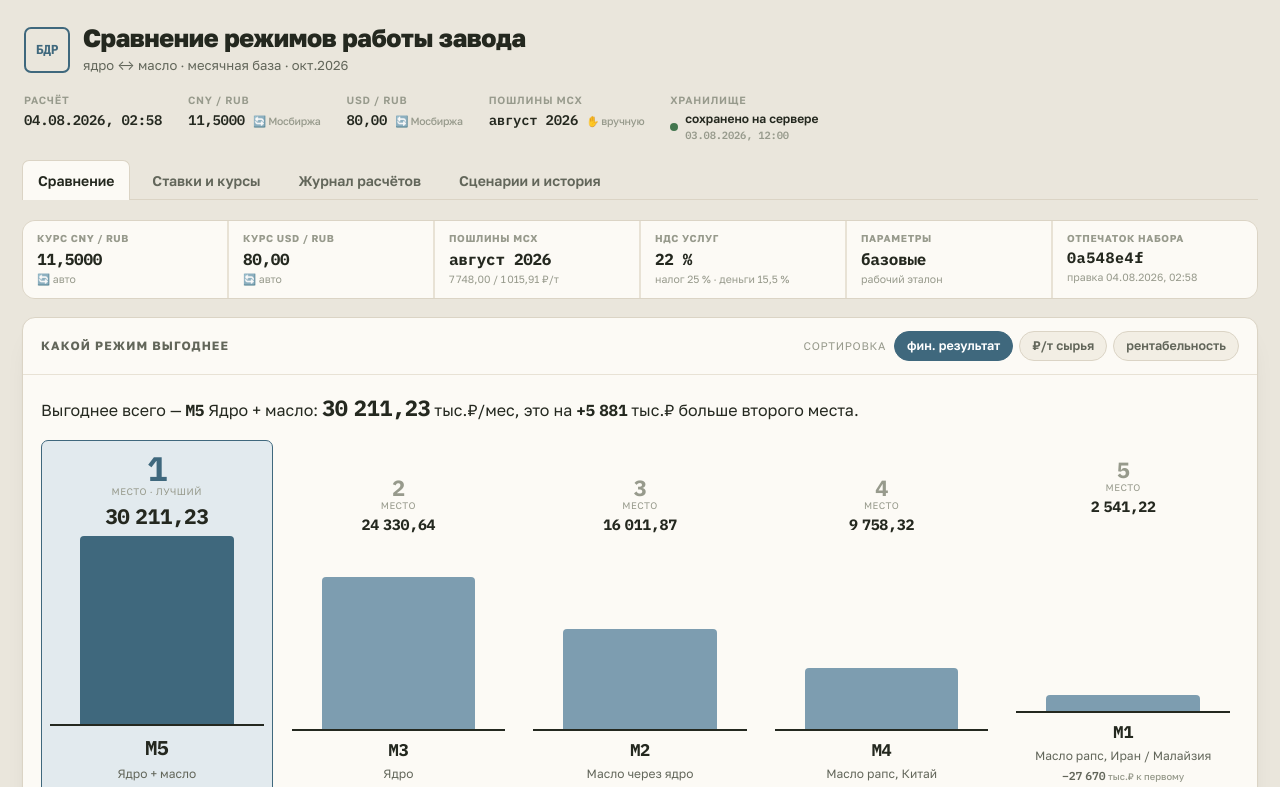
Test: Подтверждённая ставка › применяется сама и помечается применённой
Click the button "Ставки и курсы".
click(206, 180)  # box left=136, top=160, right=277, bottom=200
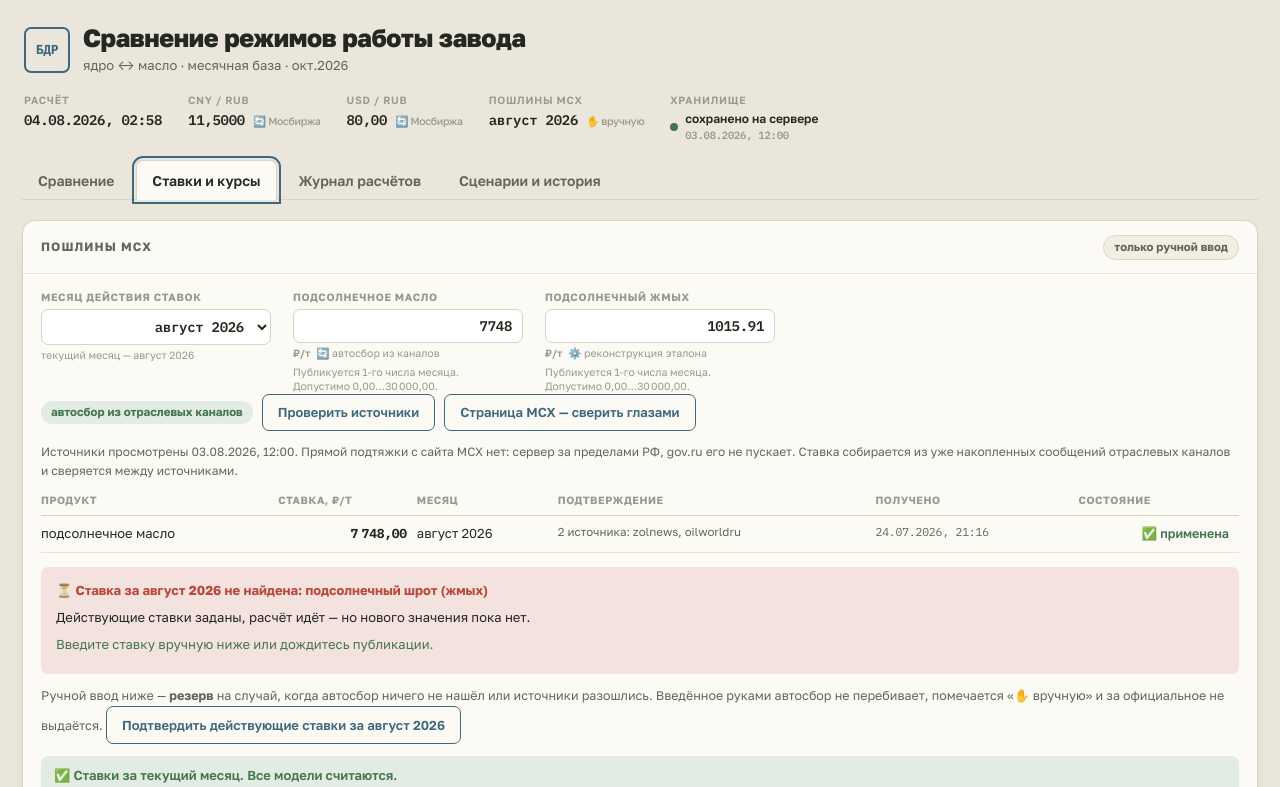
Check: the text "✅ применена" is shown, box left=1142, top=526, right=1229, bottom=541
